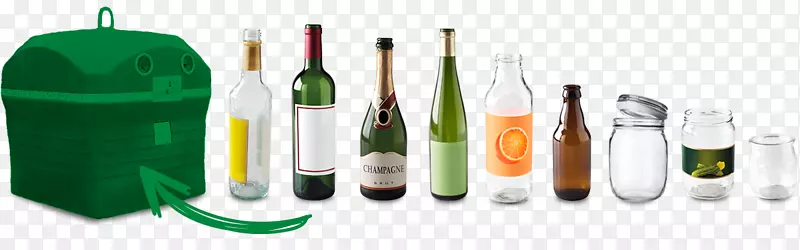bulk_waste: (0, 7, 211, 217)
normal_waste: (360, 38, 406, 199), (292, 24, 334, 199), (229, 28, 271, 199), (484, 54, 531, 202), (430, 28, 467, 199), (609, 94, 667, 201), (682, 109, 734, 198), (553, 85, 591, 199), (748, 133, 797, 199)
